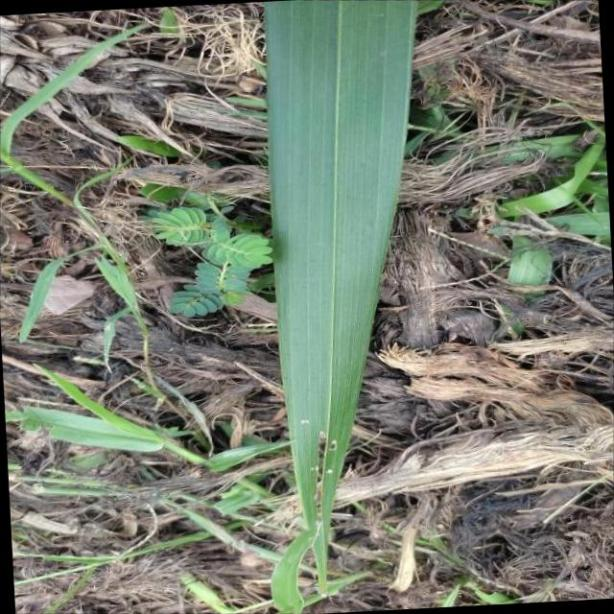Boron: (267, 0, 414, 614)
